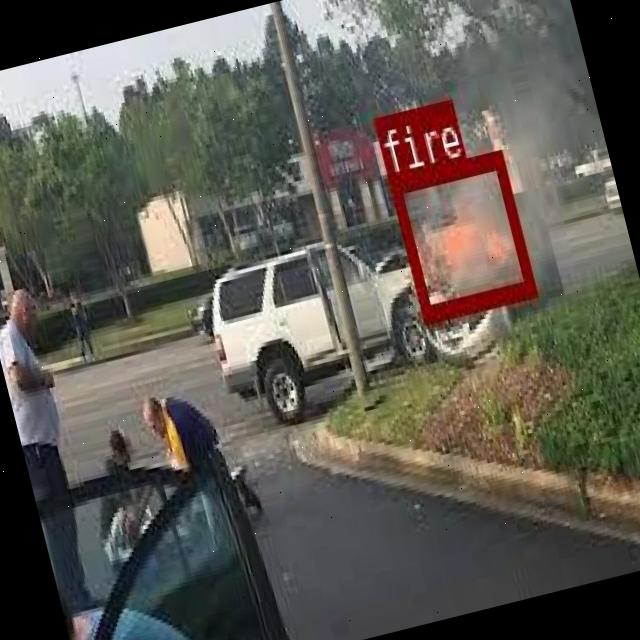fire: (386, 150, 534, 318)
